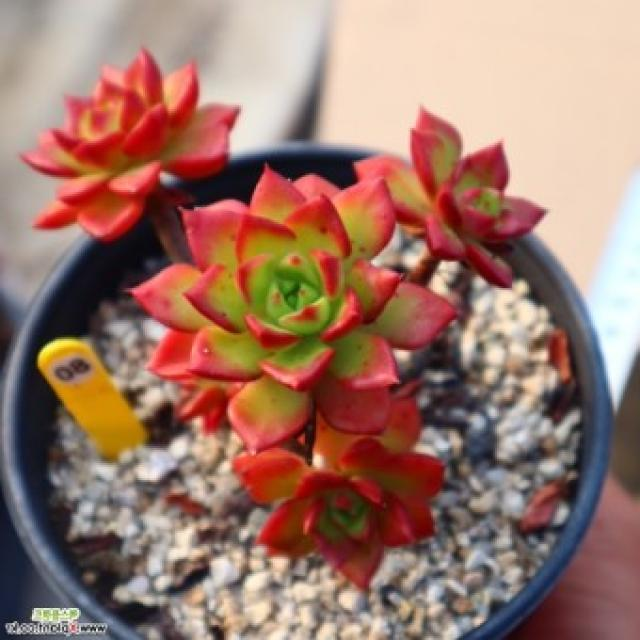Letizia: (131, 168, 456, 451), (21, 49, 239, 239), (234, 398, 444, 589), (357, 108, 545, 287)
